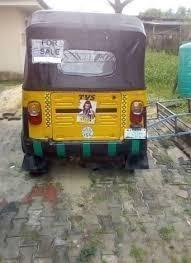keke: (18, 6, 152, 174)
